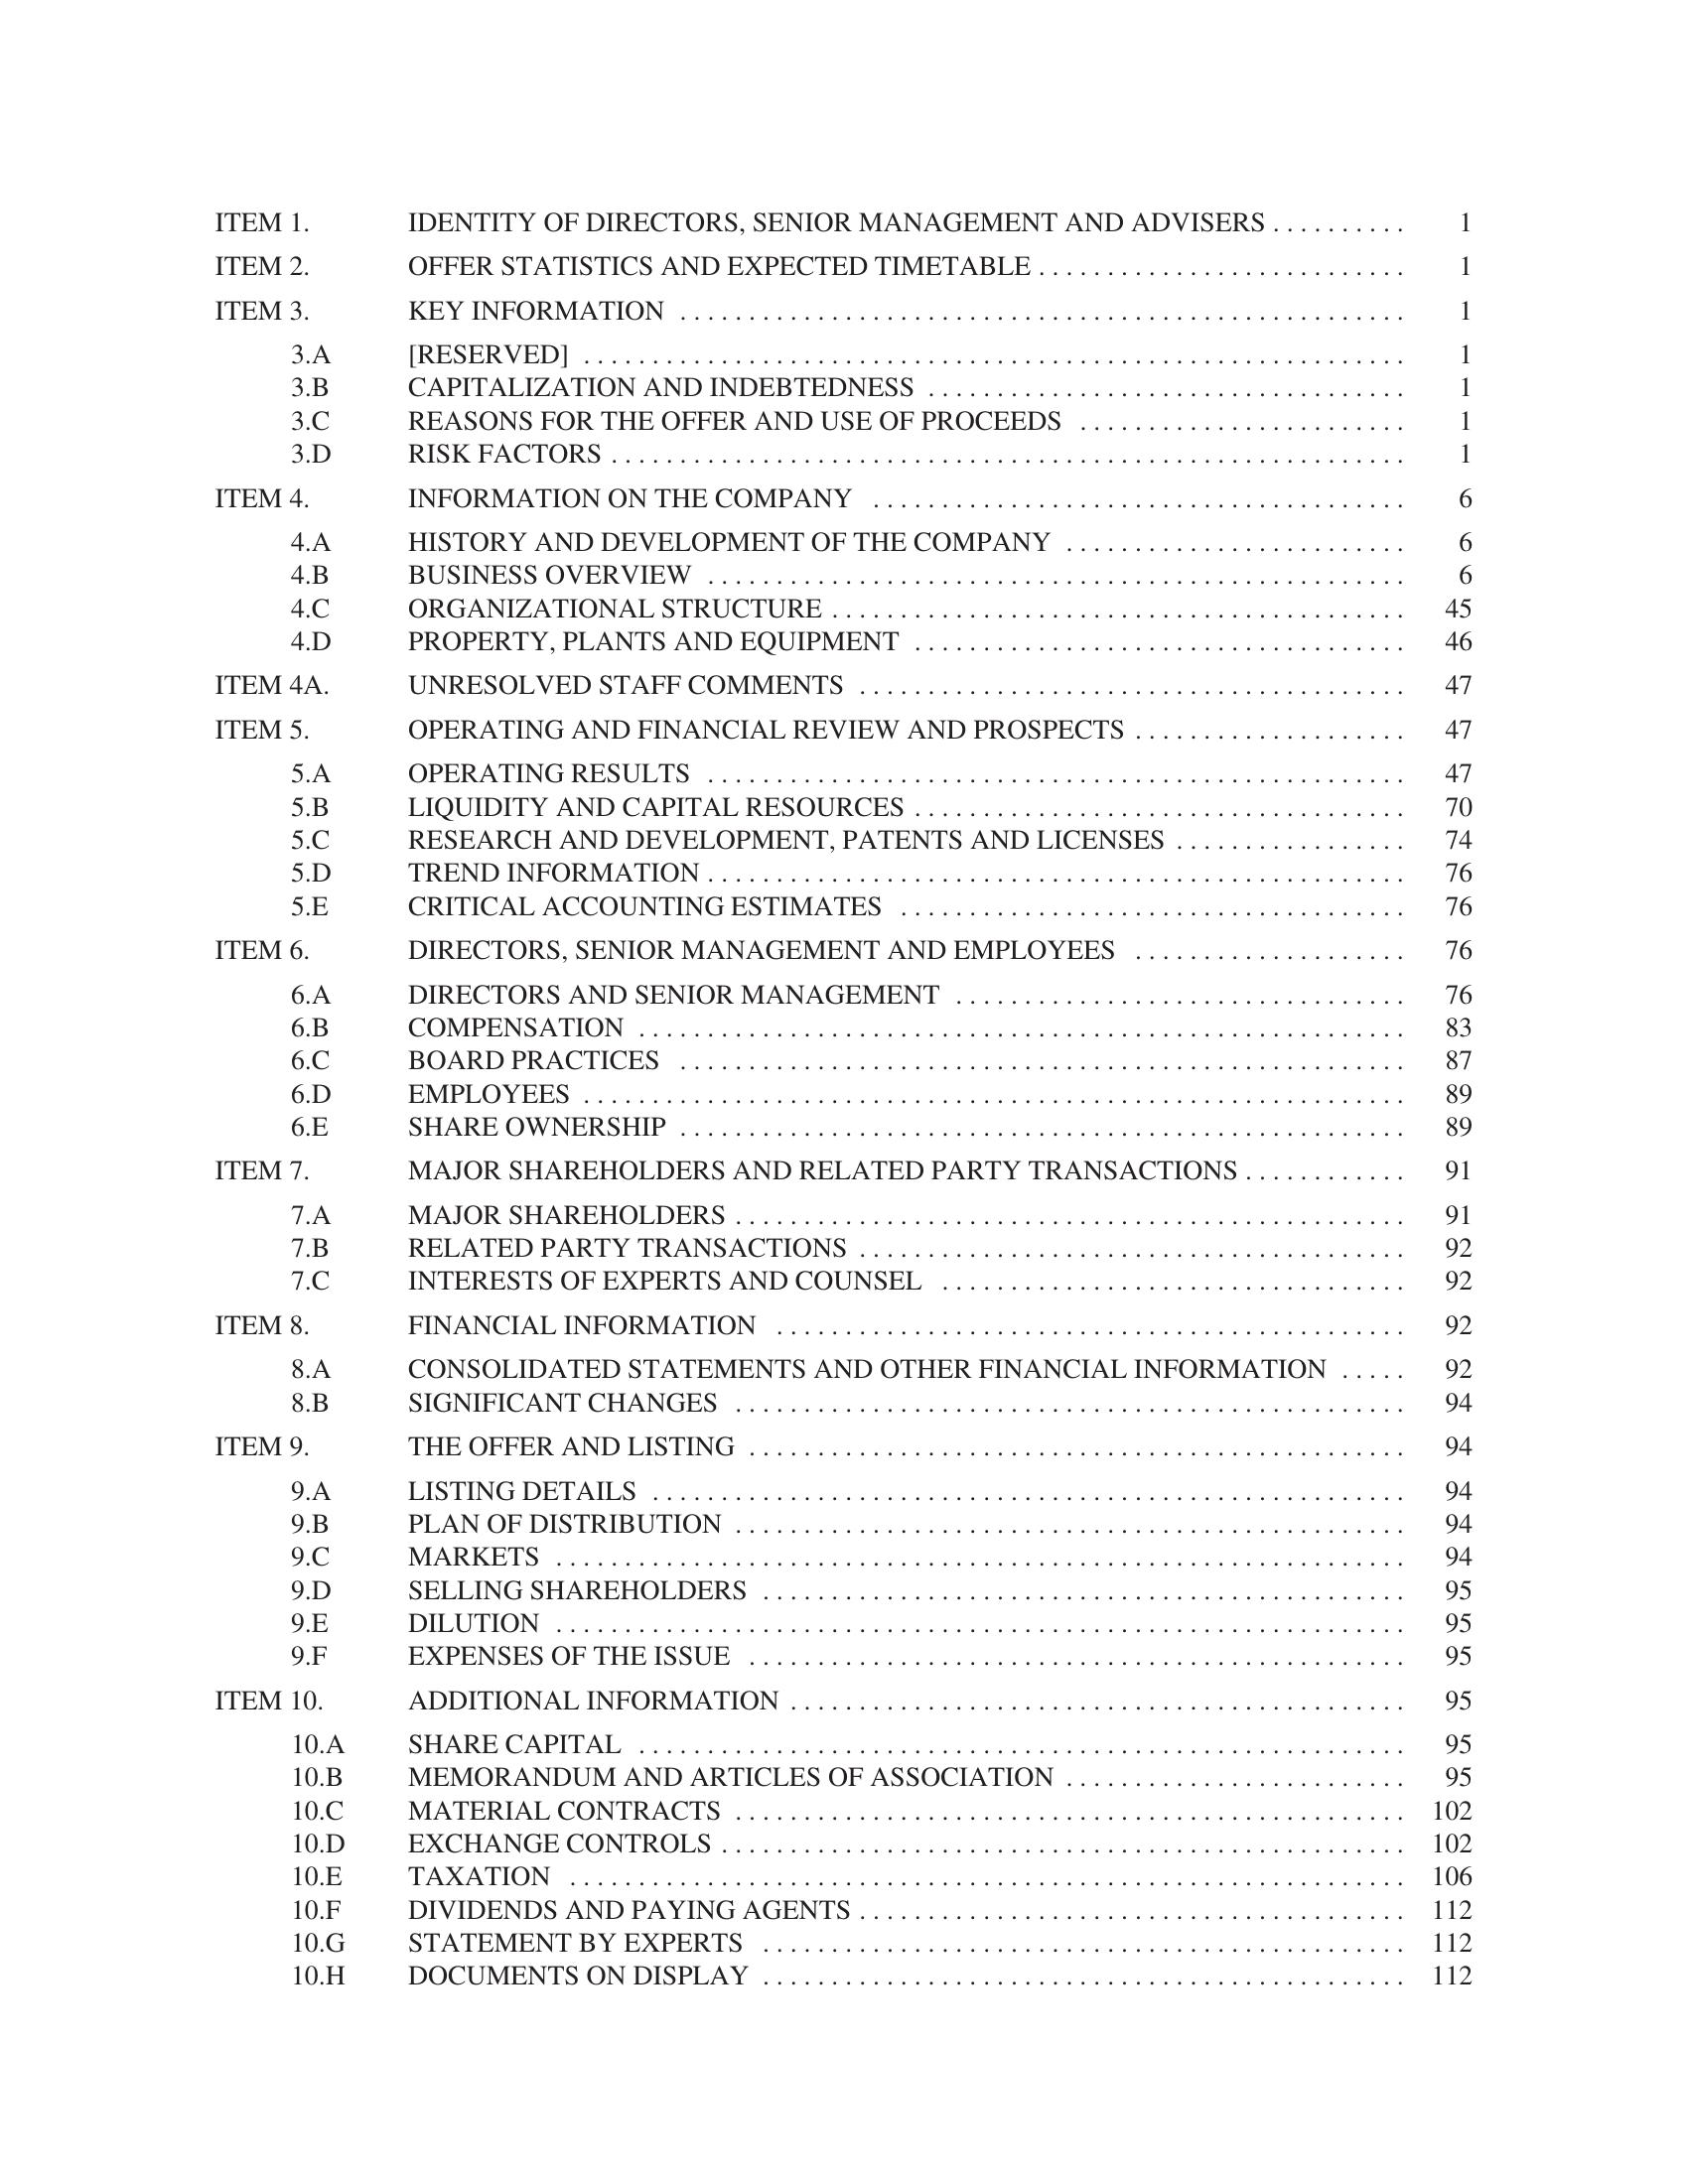Footer: (0, 2023, 1688, 2184)
Header: (0, 0, 1688, 179)
